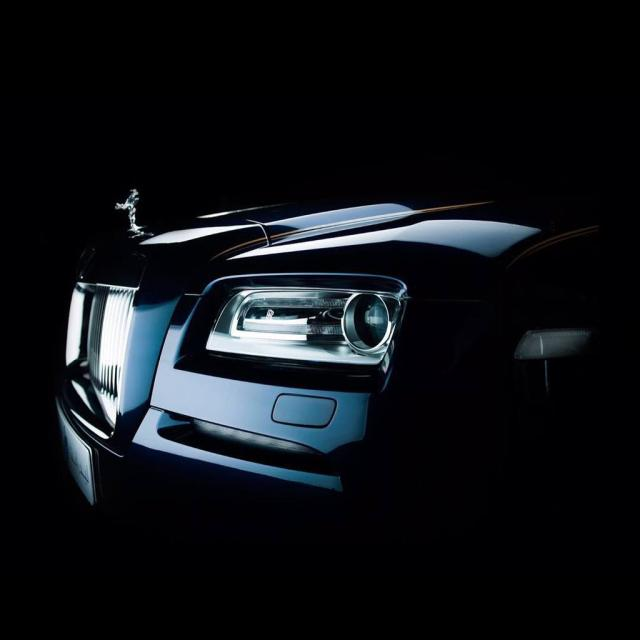car: (56, 187, 639, 502)
